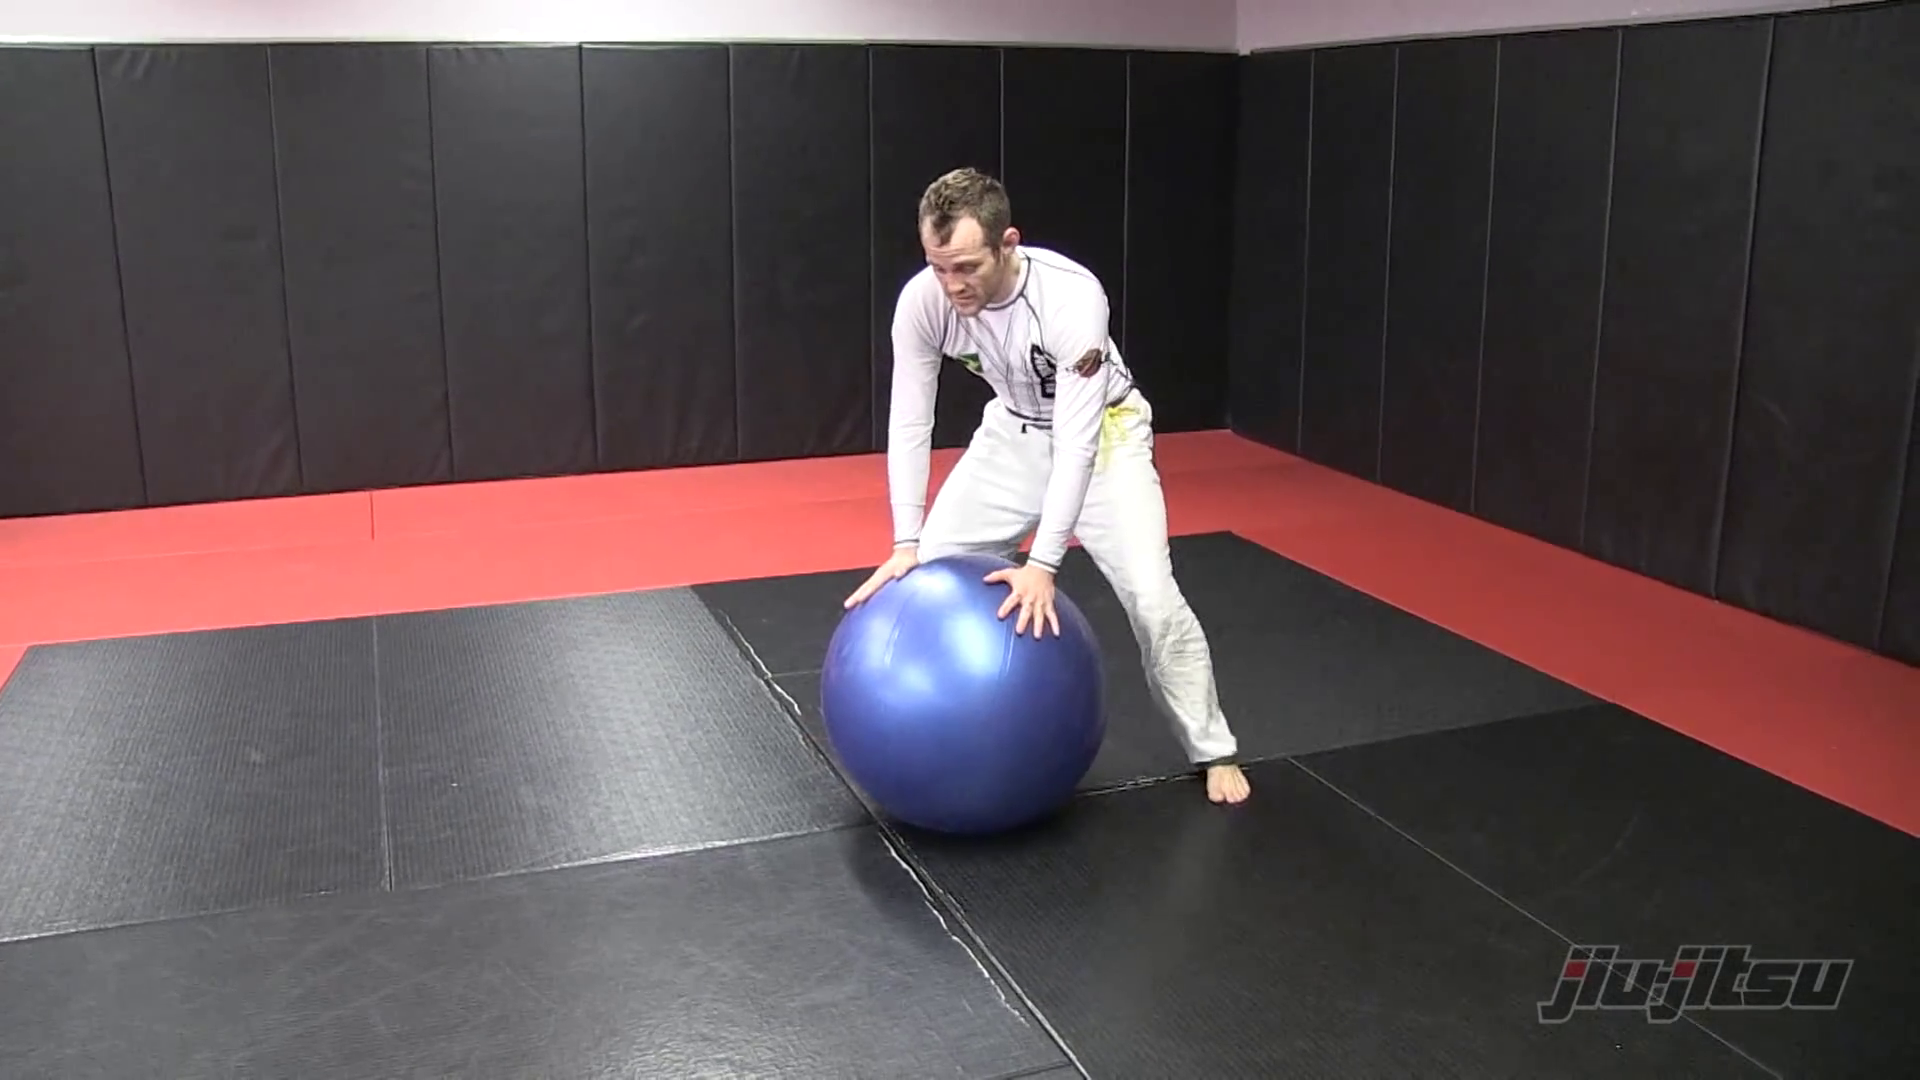yogaball: (803, 551, 1122, 868)
